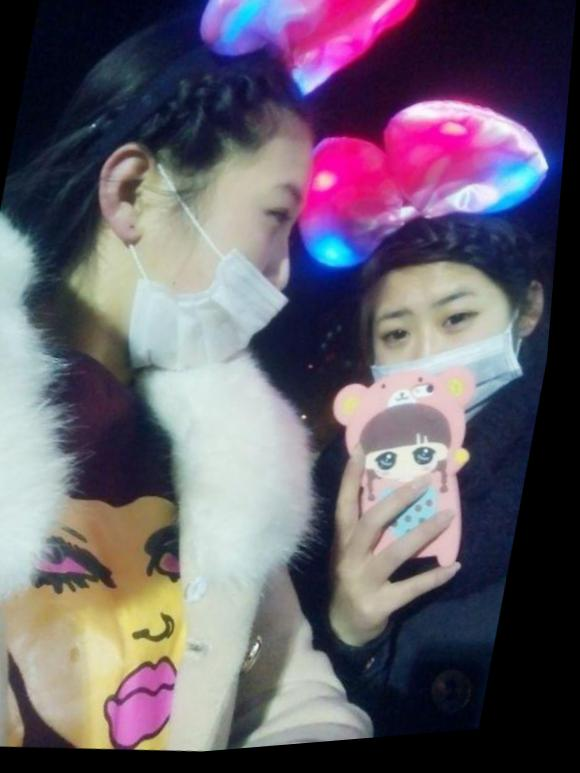WRONG: (126, 151, 317, 393), (360, 271, 535, 449)
